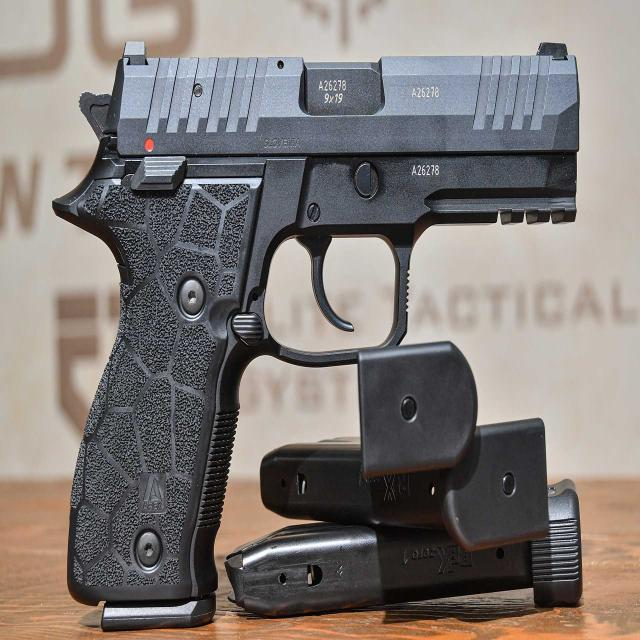HandGun: (52, 41, 581, 633)
